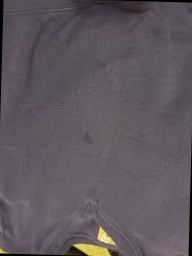oil: (78, 131, 96, 148)
